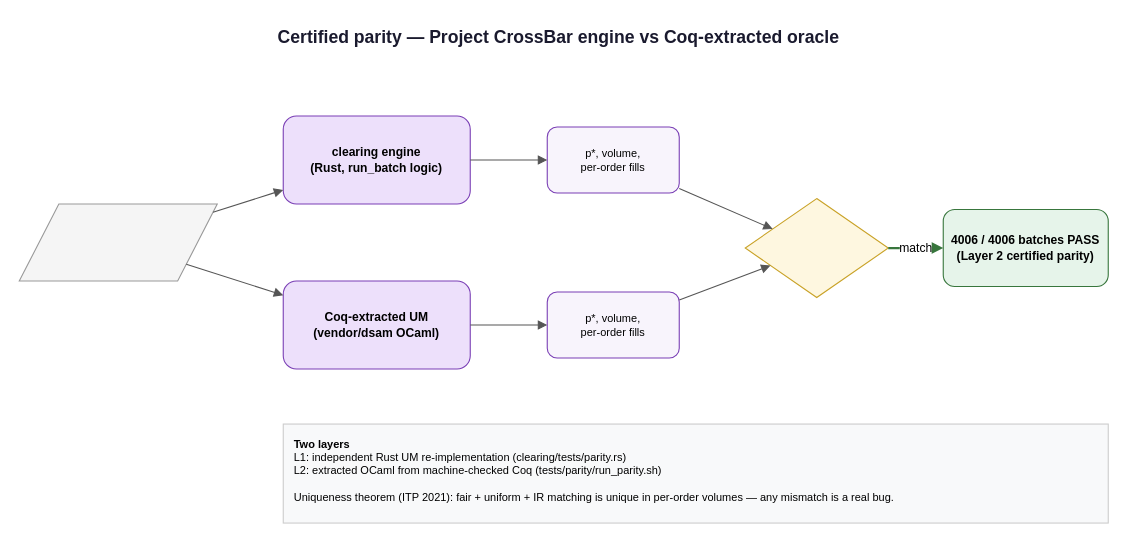
This 1128x542 diagram has some shape labels left out. Here are the shapes that lost their labels. From the top down, the centre of each, then its label:
At (117,242): "batch fixture B (bids + asks + optional CFMM)".
At (816,247): "byte-identical assertion".
